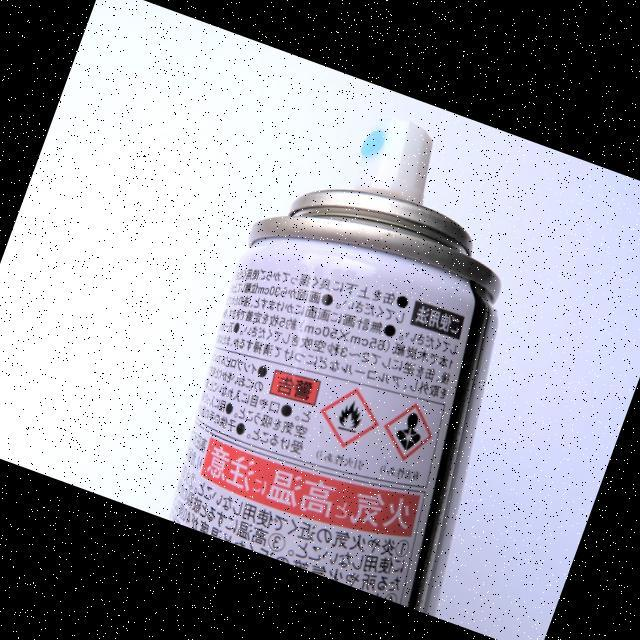chemical_spray_can: (170, 118, 501, 614)
